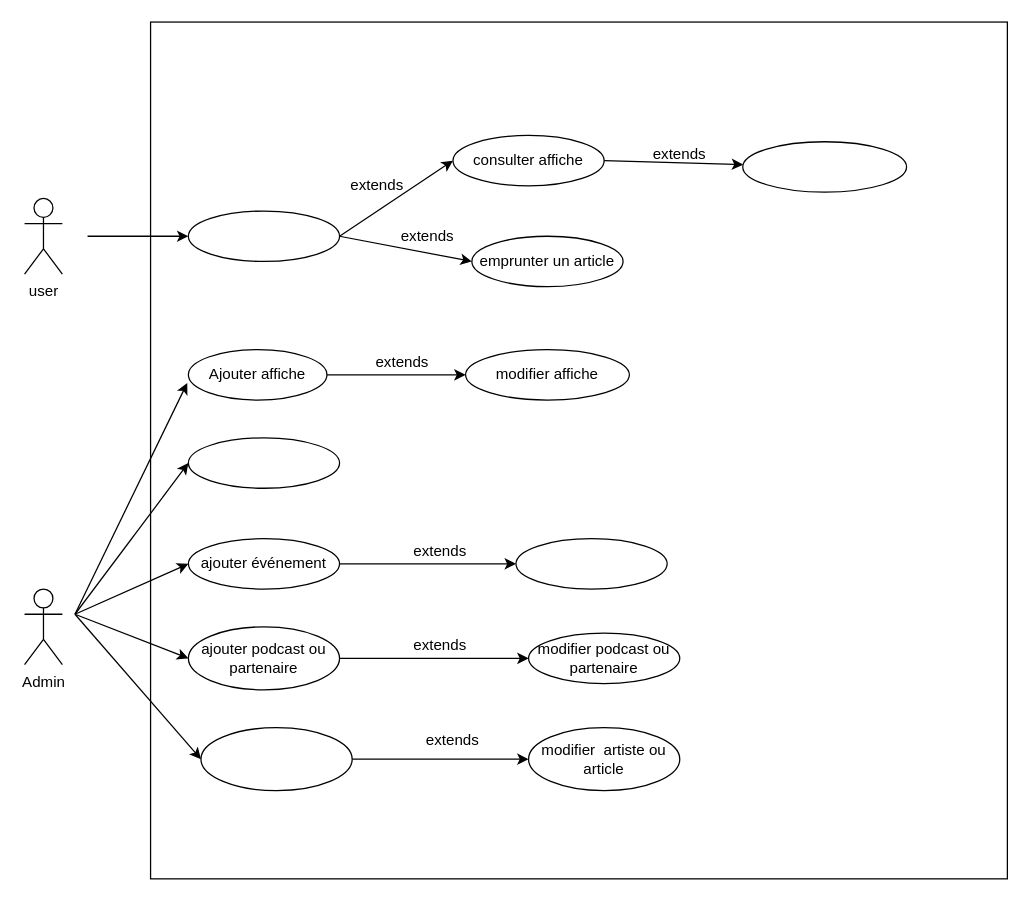
Some shapes in this 1029 by 901 pixel diagram are drawn without their labels. Each missing label, with the centre of its shape:
"ajouter artiste ou article" belongs at point (276, 758).
"créer un espace membre" belongs at point (263, 235).
"demande réservation" belongs at point (824, 166).
"liste des membres" belongs at point (263, 462).
"modifier événement" belongs at point (591, 563).
